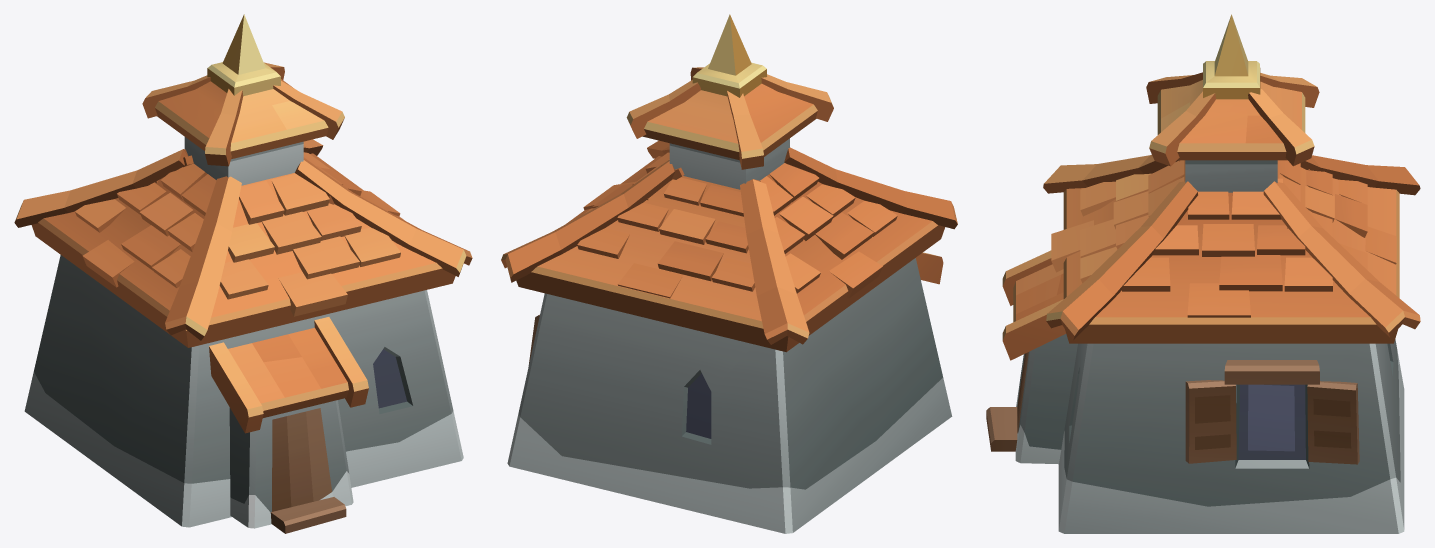
File: snow-lodge.obj
3 views of the same model, side by side, from view 1: azimuth 30°, elevation 25°; view 2: azimuth 150°, elevation 25°; view 3: azimuth 270°, elevation 25° (orthographic). The views are drawn at different scales.
Parts seen in each view (by area): view 1: snow-lodge; view 2: snow-lodge; view 3: snow-lodge.
Part boxes in pixels (bbox=[...]): snow-lodge: bbox=[14, 14, 472, 533]; snow-lodge: bbox=[501, 14, 957, 533]; snow-lodge: bbox=[986, 14, 1420, 533].
Bounding box in the file's own units: 5.78 × 7.54 × 6.64.
1 material, 1 textured.
